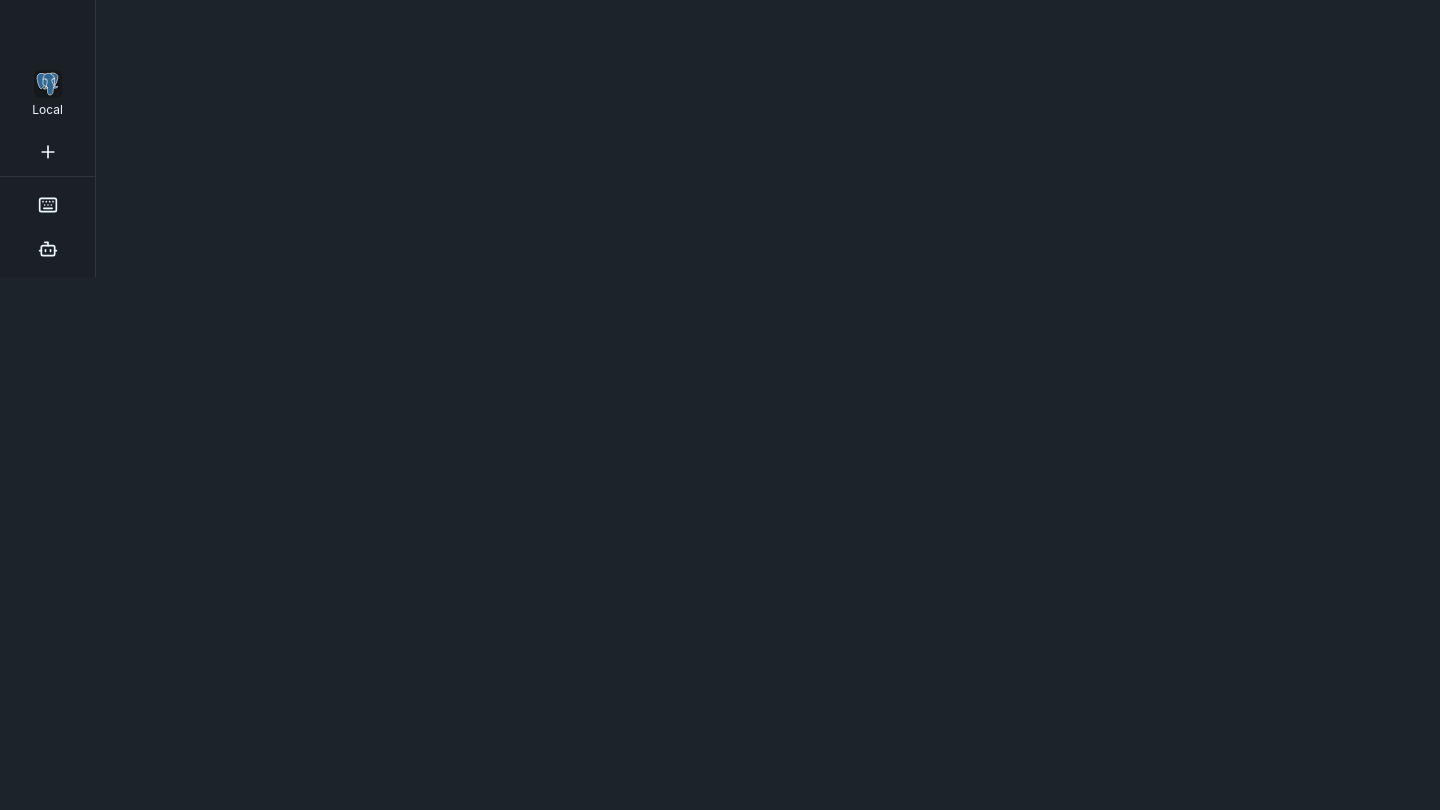
it: the connection rail › asks before deleting, and sends the id when told to
This screenshot has width=1440, height=810.
Click the button "Local".
click(48, 94)  # box [8,56,87,132]
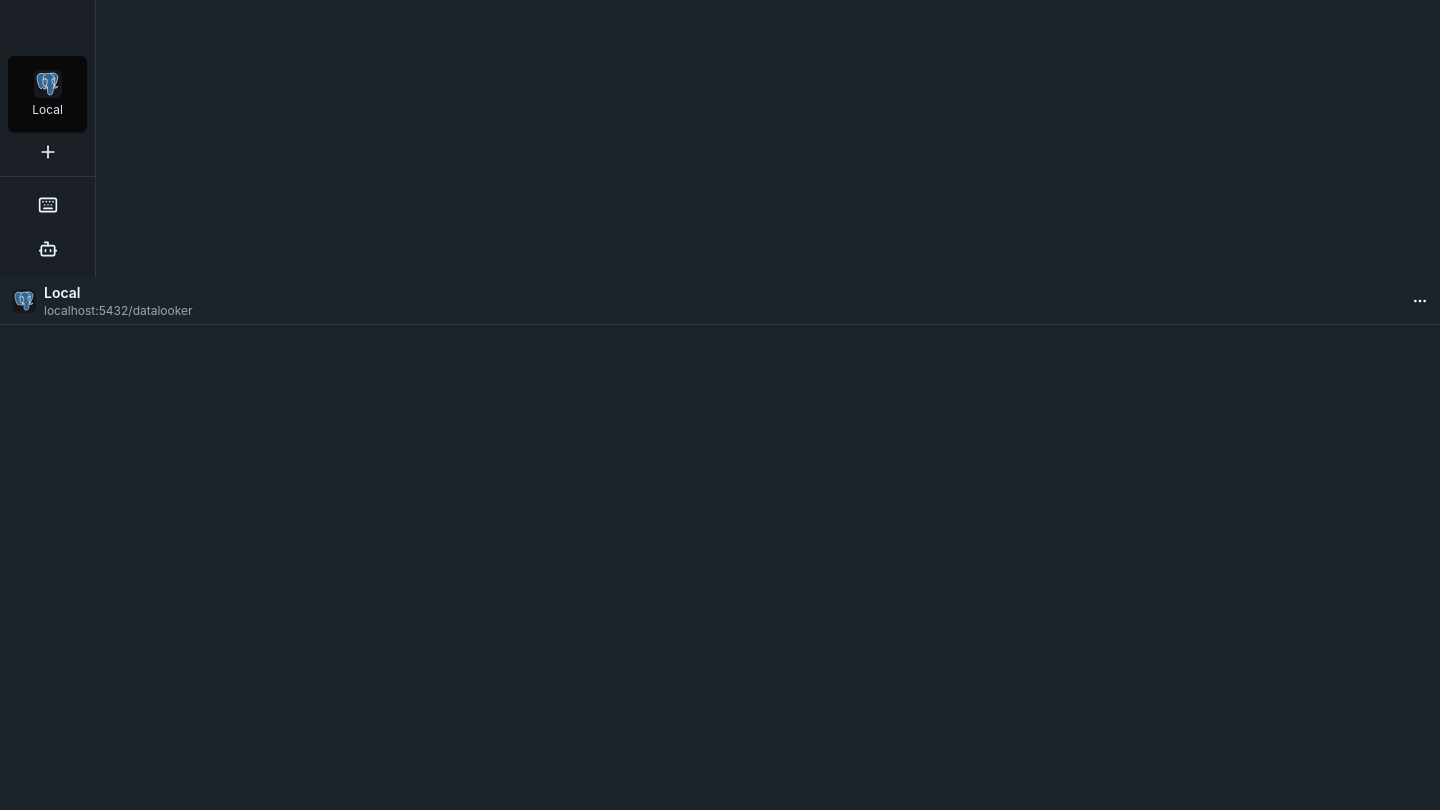
Click the button named "Local actions".
click(1420, 300)  # box [1408,288,1432,312]
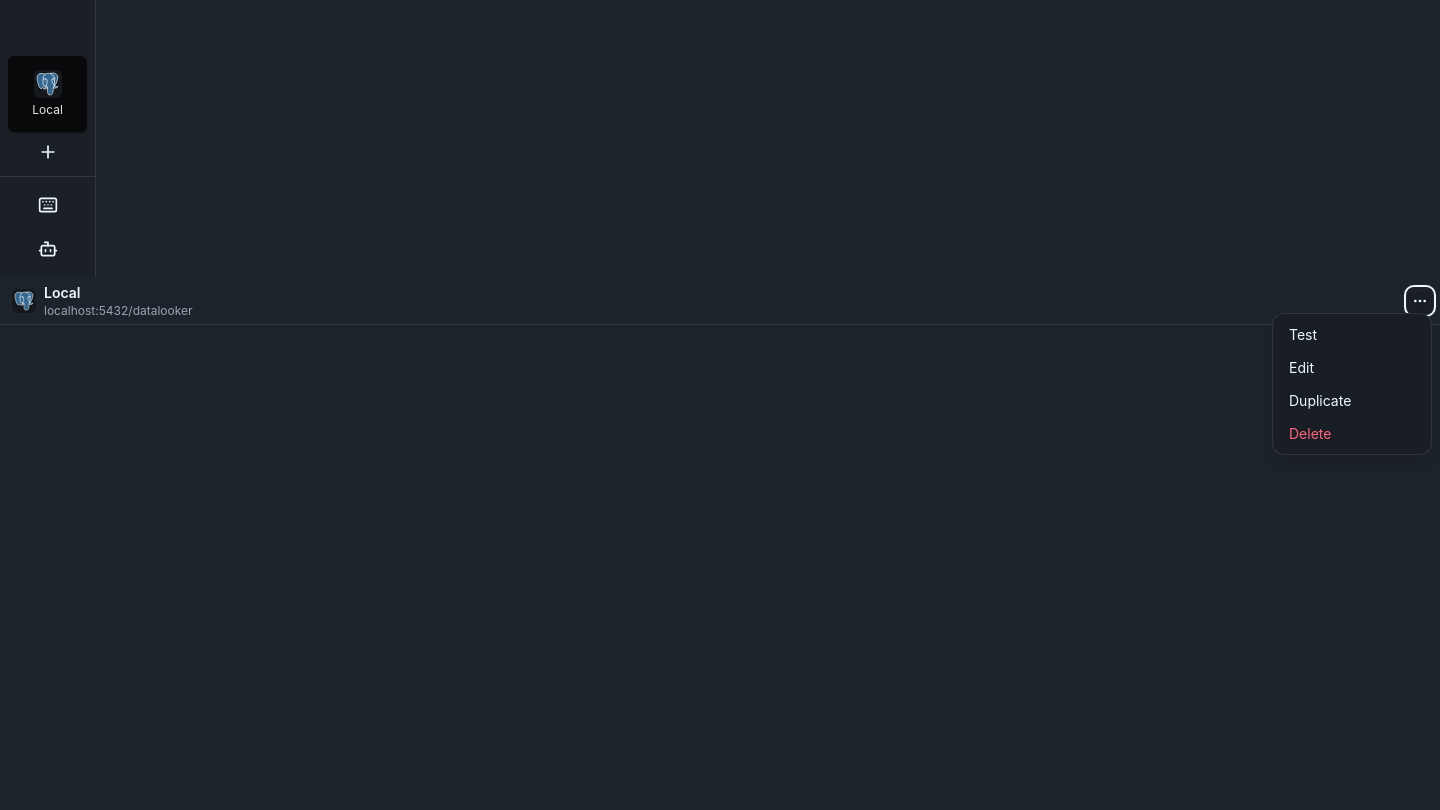
Click the button "Delete".
click(1352, 433)  # box [1277,416,1427,450]
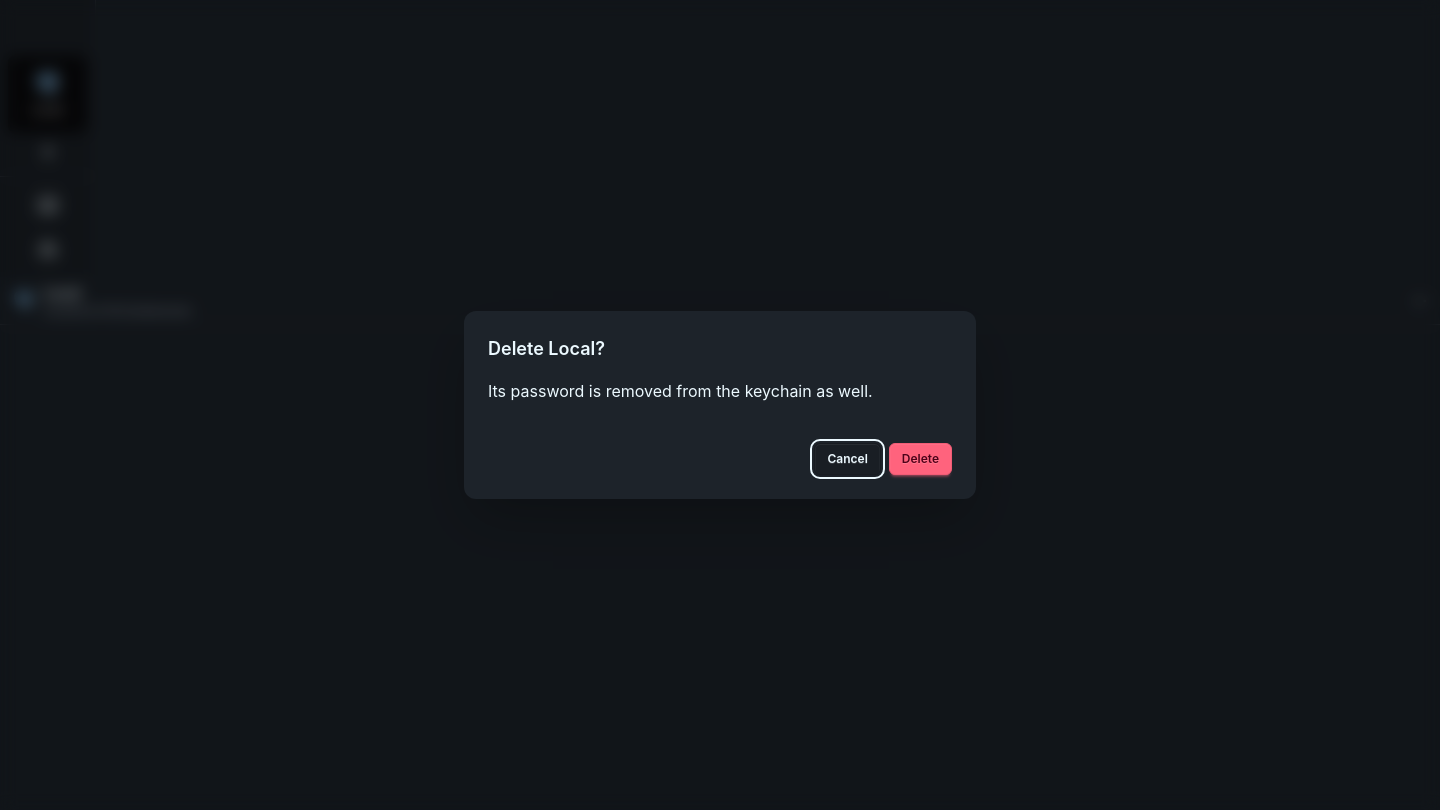
Click the button "Delete".
click(920, 459)  # box [889,443,952,475]
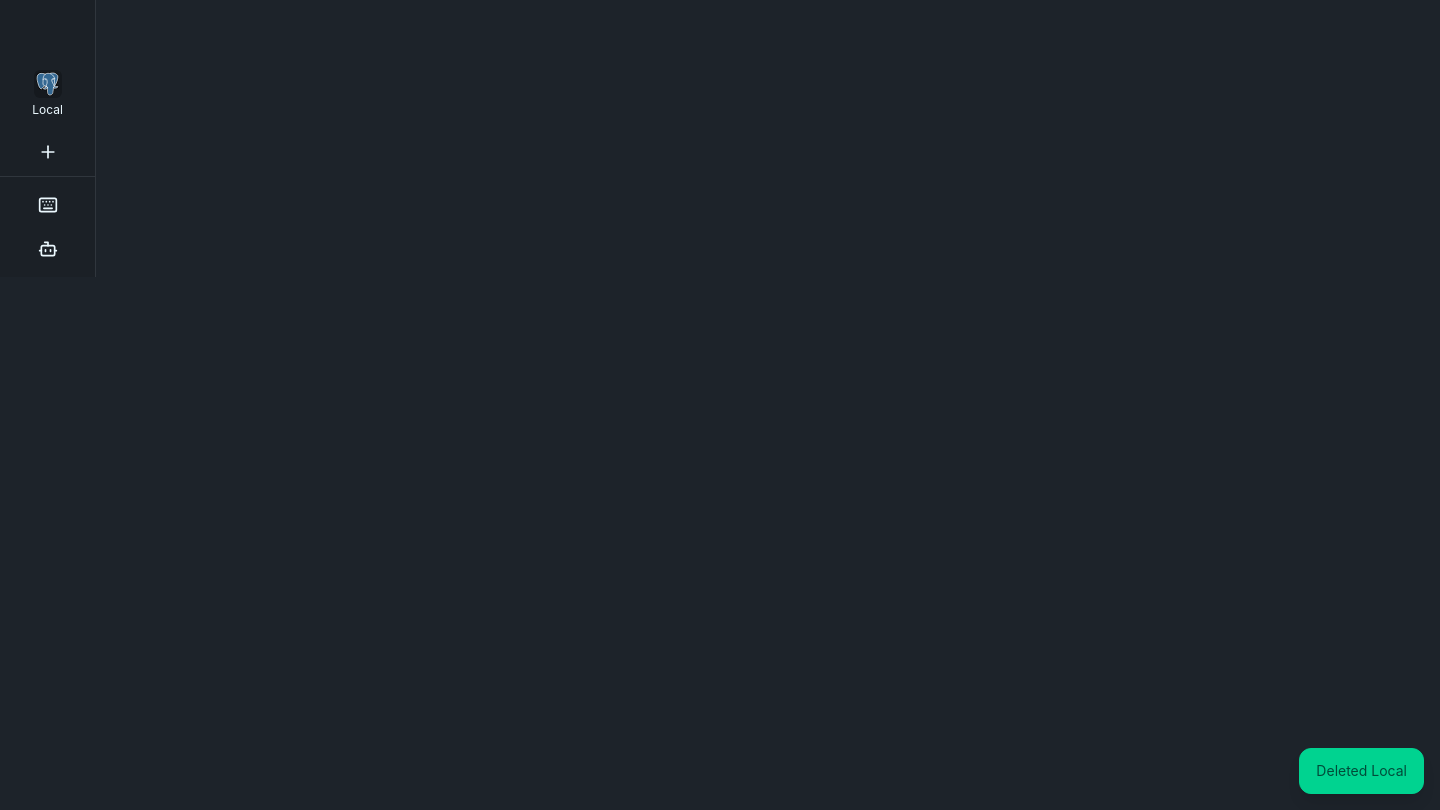
Expected: the text "Deleted Local" is shown, [1316,761,1407,781]
